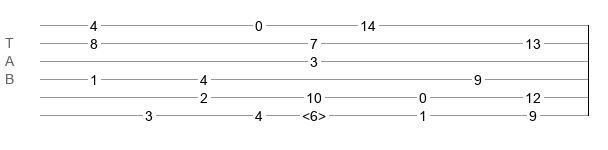0: (255, 18, 263, 28), (419, 90, 427, 100)
1: (90, 72, 98, 82), (419, 108, 427, 118)
10: (306, 90, 322, 100)
12: (525, 90, 541, 100)
13: (525, 36, 541, 46)
14: (360, 18, 376, 28)
2: (200, 90, 208, 100)
3: (145, 108, 153, 118), (310, 54, 318, 64)
4: (90, 18, 98, 28), (200, 72, 208, 82), (255, 108, 263, 118)
7: (310, 36, 318, 46)
8: (90, 36, 98, 46)
9: (474, 72, 482, 82), (529, 108, 537, 118)
harmonic: (302, 108, 326, 118)
